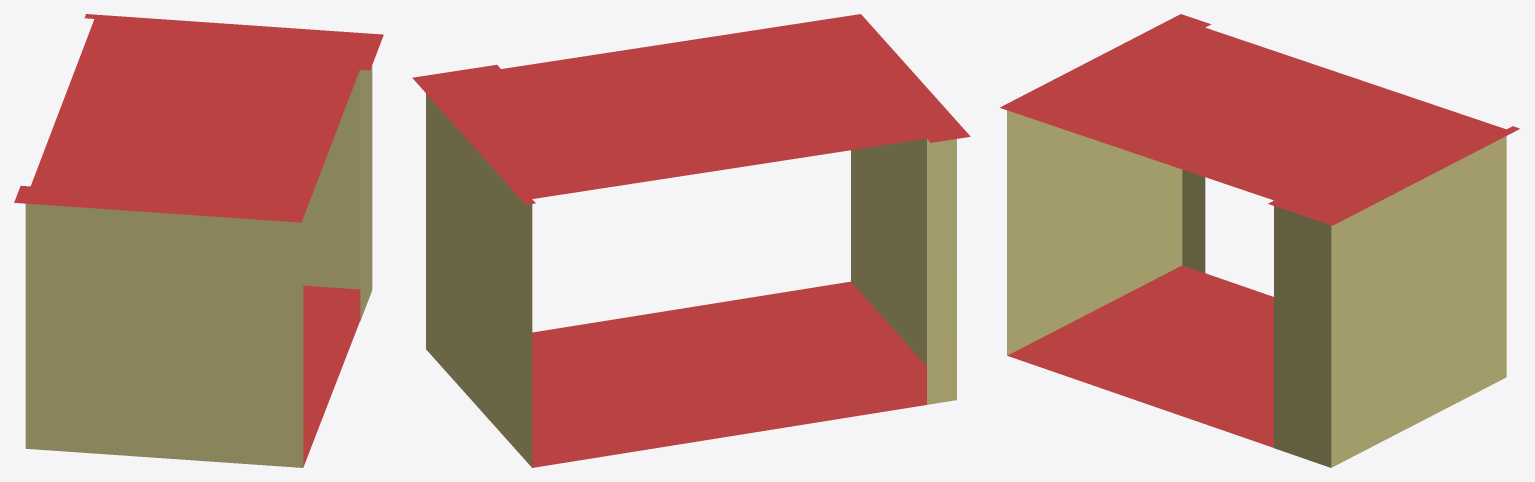
The picture shows the model from 3 angles, left to right: view 1: azimuth 30°, elevation 25°; view 2: azimuth 150°, elevation 25°; view 3: azimuth 270°, elevation 25°; orthographic projection. The views are drawn at different scales.
Size of the model in its own units: 12.76 by 13.1 by 6.88.
